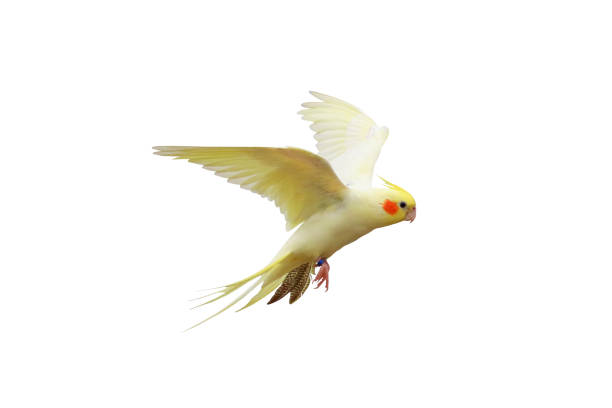Bird: (147, 86, 418, 329)
